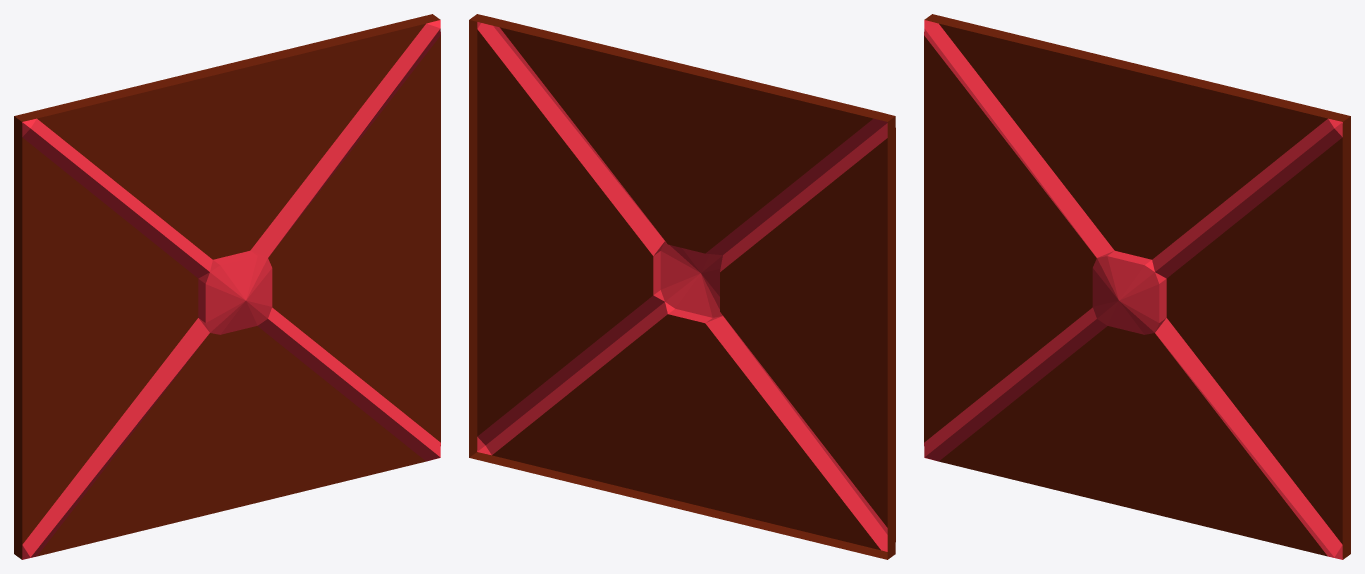
File: Decor_1.fbx
The picture shows the model from 3 angles, left to right: view 1: azimuth 30°, elevation 25°; view 2: azimuth 150°, elevation 25°; view 3: azimuth 330°, elevation 25°; orthographic projection.
Parts seen in each view (by area): view 1: Decor_1; view 2: Decor_1; view 3: Decor_1.
Part boxes in pixels (x1,y1,x2,y2): Decor_1: (14, 14, 440, 559); Decor_1: (469, 14, 895, 559); Decor_1: (924, 14, 1350, 559).
Bounding box in the file's own units: 266 × 266 × 24.99.
